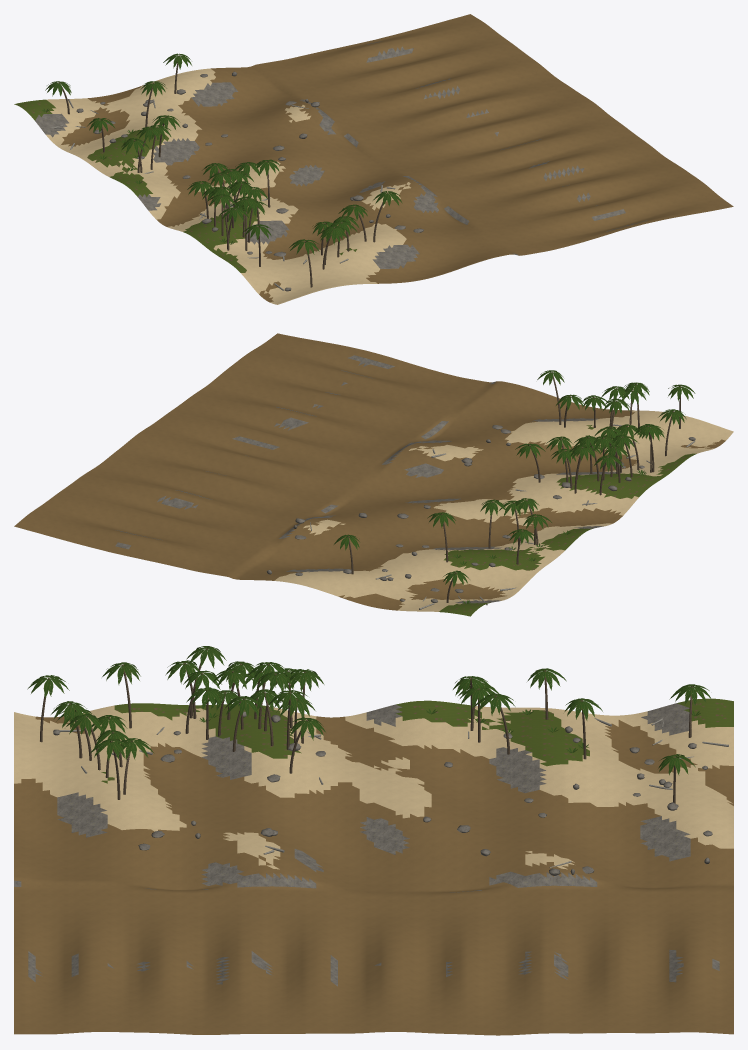
The model's file is SM_Art_DriftwoodTerrain.gltf.
The picture shows the model from 3 angles, top to bottom: view 1: azimuth 30°, elevation 25°; view 2: azimuth 150°, elevation 25°; view 3: azimuth 270°, elevation 25°; orthographic projection. The views are drawn at different scales.
Parts seen in each view (by area): view 1: SM_Art_DriftwoodTerrain; view 2: SM_Art_DriftwoodTerrain; view 3: SM_Art_DriftwoodTerrain.
Part boxes in pixels (bbox=[...]): SM_Art_DriftwoodTerrain: bbox=[14, 14, 733, 304]; SM_Art_DriftwoodTerrain: bbox=[14, 333, 733, 616]; SM_Art_DriftwoodTerrain: bbox=[14, 646, 733, 1035].
Bounding box in the file's own units: 100 × 15.12 × 100.
8 materials, 8 textured.
